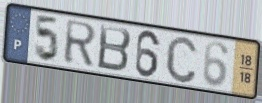5: (31, 13, 60, 63)
6: (133, 29, 162, 79), (201, 39, 230, 89)
B: (95, 23, 133, 74)
C: (164, 34, 199, 85)
R: (63, 18, 99, 68)
